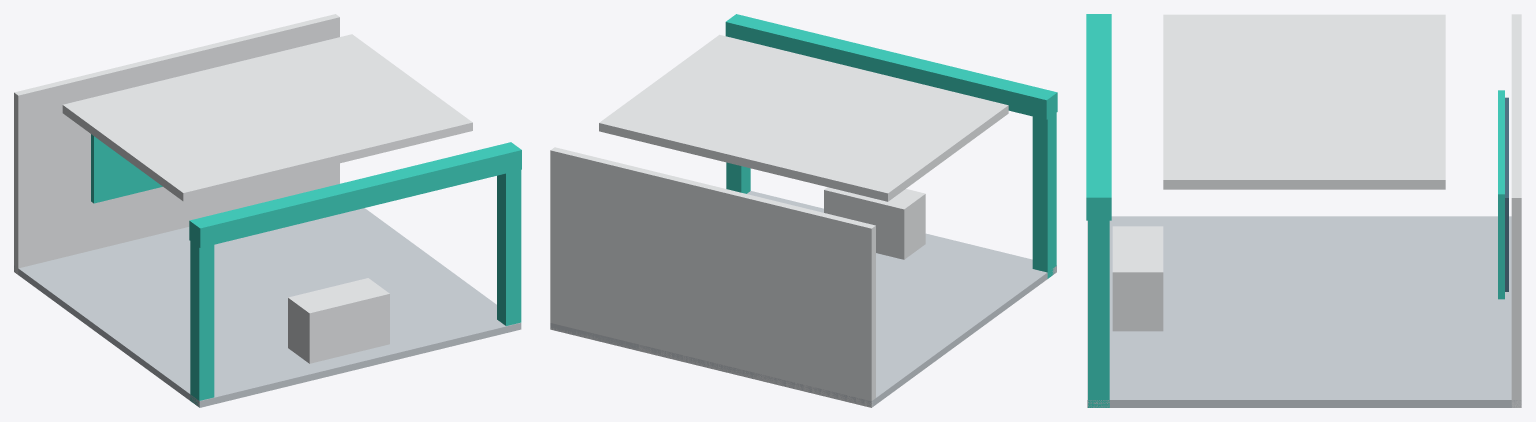
3 views of the same model, side by side, from view 1: azimuth 30°, elevation 25°; view 2: azimuth 150°, elevation 25°; view 3: azimuth 270°, elevation 25° (orthographic). The views are drawn at different scales.
Parts seen in each view (by area): view 1: Exhibition Booth Concept; view 2: Exhibition Booth Concept; view 3: Exhibition Booth Concept.
Part boxes in pixels (x1,y1,x2,y2): Exhibition Booth Concept: (14,14,521,407); Exhibition Booth Concept: (550,14,1057,407); Exhibition Booth Concept: (1086,14,1521,407).
Bounding box in the file's own units: 6 × 3.34 × 6.02.
